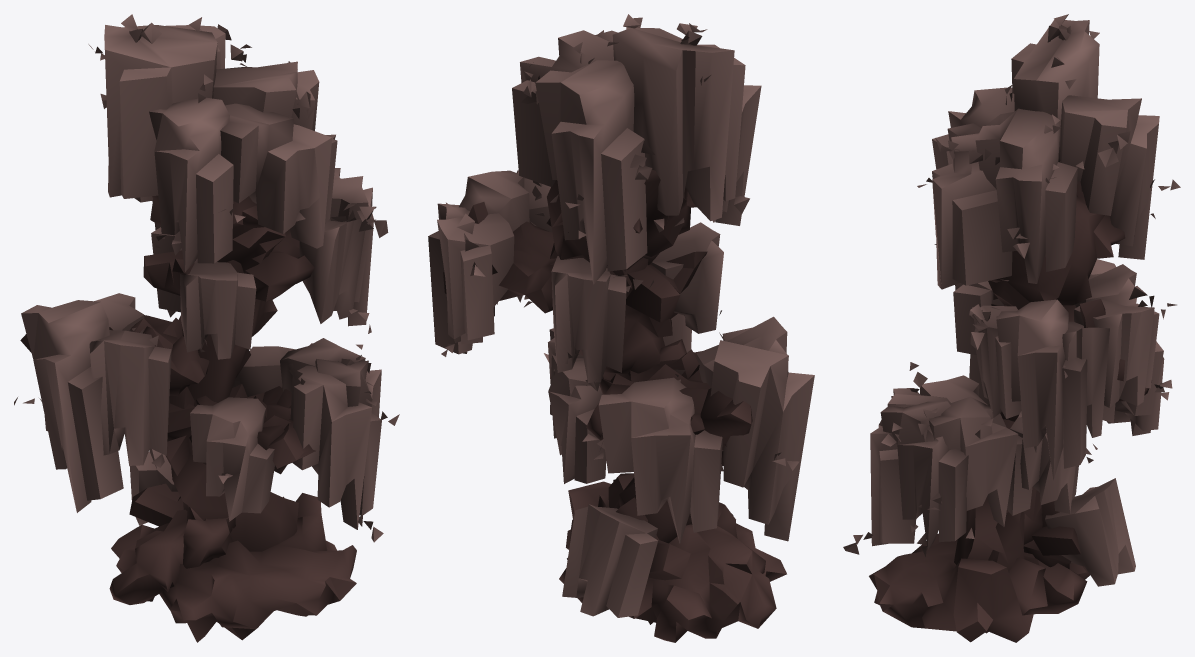
File: hvs_farmables_sodium_lod2.fbx
3 renders of one model, left to right at view 1: azimuth 30°, elevation 25°; view 2: azimuth 150°, elevation 25°; view 3: azimuth 270°, elevation 25°, orthographic. The views are drawn at different scales.
Visible parts, largest first — view 1: lod0_hvs_farmables_sodium.003; view 2: lod0_hvs_farmables_sodium.003; view 3: lod0_hvs_farmables_sodium.003.
Part boxes in pixels (x1,y1,x2,y2): lod0_hvs_farmables_sodium.003: (14, 14, 399, 642); lod0_hvs_farmables_sodium.003: (428, 14, 814, 642); lod0_hvs_farmables_sodium.003: (843, 14, 1180, 642).
Size of the model in its own units: 10.18 by 16.77 by 8.7.
